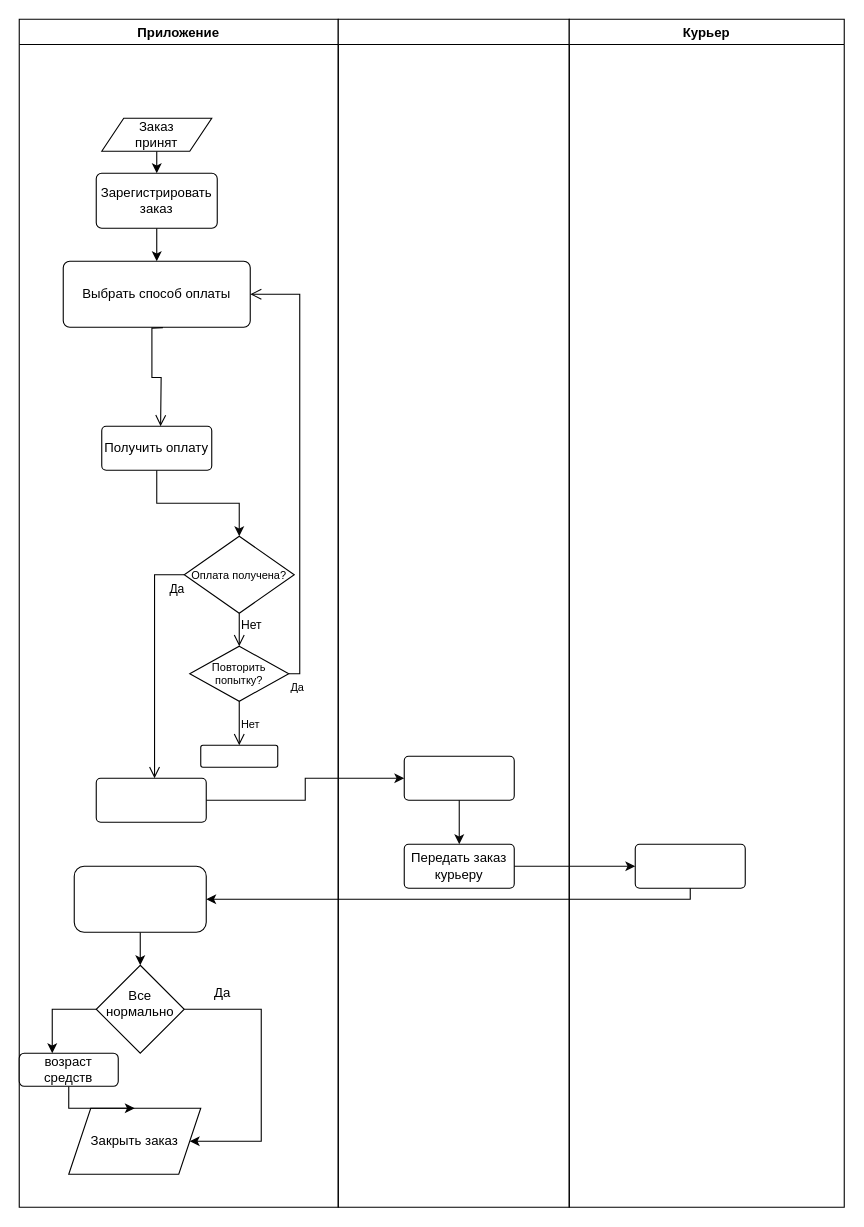
This 864x1227 diagram has some shape labels left out. Here are the shapes that lost their labels. From the top down, the box of each, then its label:
(337, 18, 569, 1207): шеф
(200, 744, 278, 767): Отменить заказ
(403, 755, 514, 800): Приготовить полученный заказ
(95, 777, 206, 822): Передать заказ на кухню
(634, 843, 745, 888): Доставить заказ
(73, 865, 206, 932): Проверка заказа
